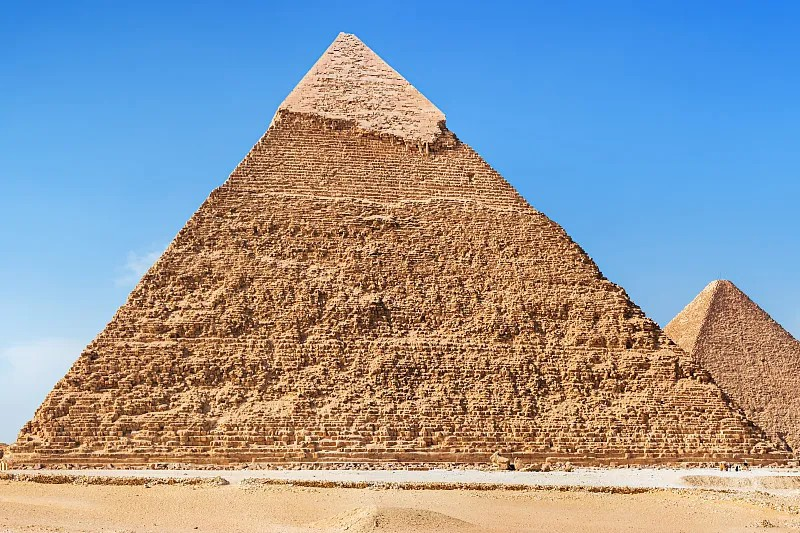Pyramid: (7, 33, 789, 455), (662, 280, 800, 461)
